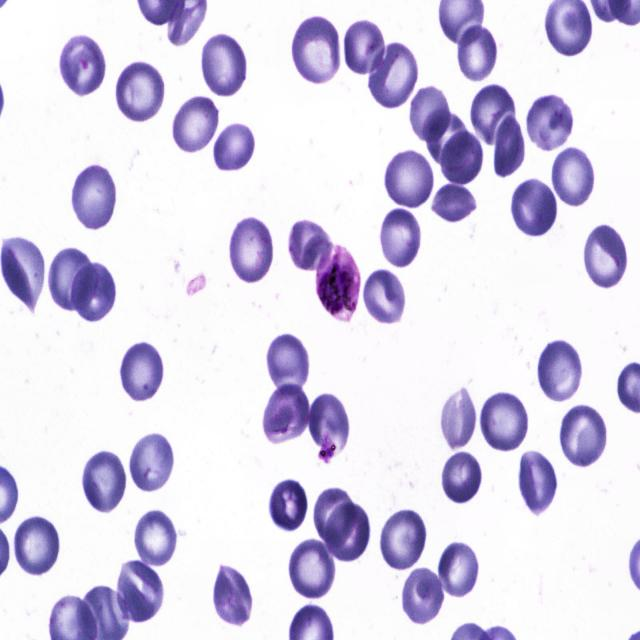red blood cell: (70, 158, 120, 234), (0, 236, 48, 313), (368, 40, 420, 110), (290, 15, 342, 85), (557, 401, 610, 469), (227, 214, 276, 286), (113, 60, 167, 124), (47, 244, 96, 312), (12, 512, 64, 576), (68, 260, 120, 324), (286, 536, 337, 601), (198, 32, 248, 98), (114, 558, 164, 624), (171, 93, 221, 159), (534, 339, 584, 404), (584, 220, 630, 290), (422, 107, 472, 171), (525, 92, 576, 154), (482, 389, 531, 453), (260, 383, 312, 442), (59, 33, 106, 98), (510, 176, 560, 237), (470, 80, 516, 146), (132, 505, 180, 568), (384, 150, 436, 208), (118, 341, 166, 403), (127, 430, 175, 492), (82, 450, 129, 513), (308, 395, 352, 462), (379, 509, 427, 570), (550, 146, 596, 209), (378, 206, 424, 268), (399, 565, 446, 625), (324, 501, 370, 562), (212, 566, 257, 628), (265, 332, 310, 394), (435, 128, 484, 184), (343, 14, 387, 76), (490, 108, 529, 177), (438, 540, 482, 600), (286, 216, 334, 271), (362, 270, 407, 326), (314, 488, 356, 548), (520, 448, 557, 515), (409, 84, 451, 142), (457, 23, 498, 82), (440, 389, 477, 453), (442, 451, 485, 506), (212, 121, 255, 174), (431, 181, 481, 224), (269, 480, 308, 532)
schizont: (312, 240, 360, 322)
